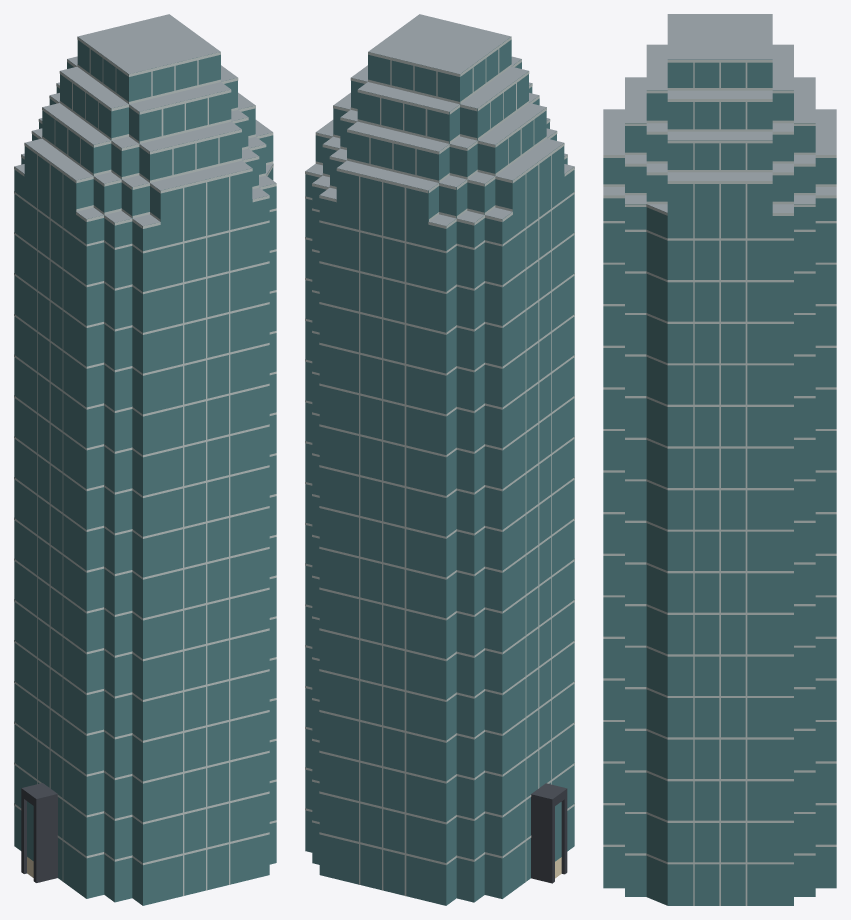
File: nyc-one-court-square.glb
The picture shows the model from 3 angles, left to right: view 1: azimuth 30°, elevation 25°; view 2: azimuth 150°, elevation 25°; view 3: azimuth 270°, elevation 25°; orthographic projection.
Visible parts, largest first — view 1: One Court Square; view 2: One Court Square; view 3: One Court Square.
Boxes of the visible parts, <box> form: One Court Square: <box>14,14,276,905</box>; One Court Square: <box>305,14,574,905</box>; One Court Square: <box>603,14,836,905</box>.
Size of the model in its own units: 57.16 by 201 by 51.92.
